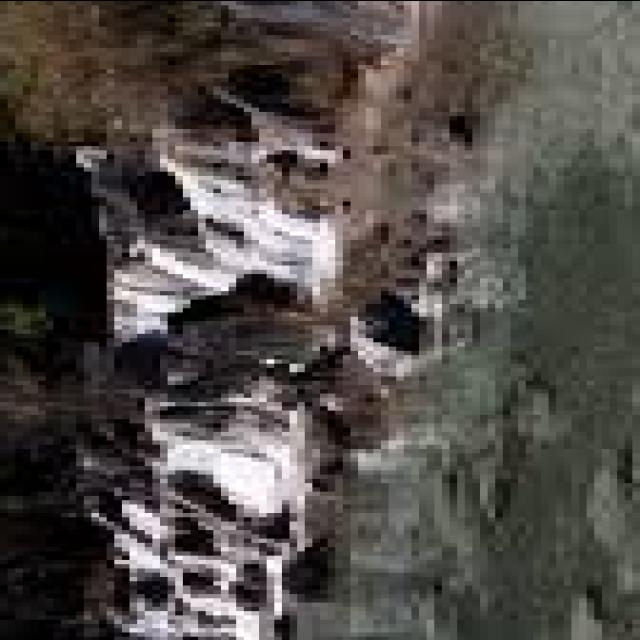-: (312, 0, 640, 640), (442, 222, 640, 640)
